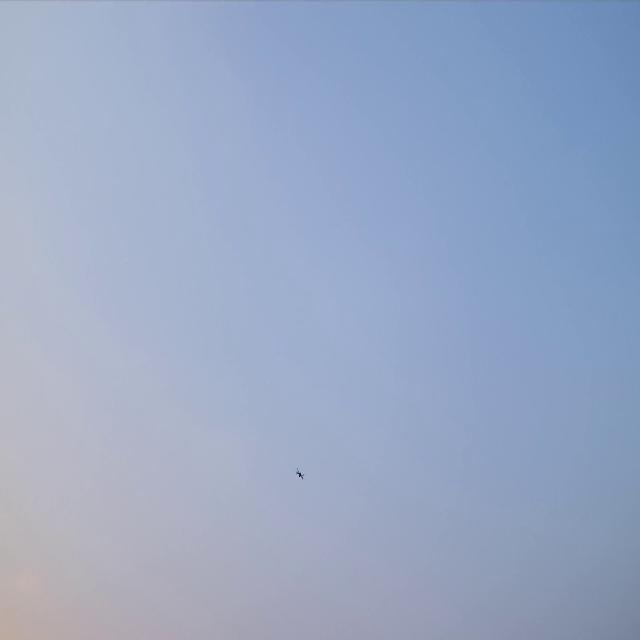UAV: (294, 467, 305, 481)
